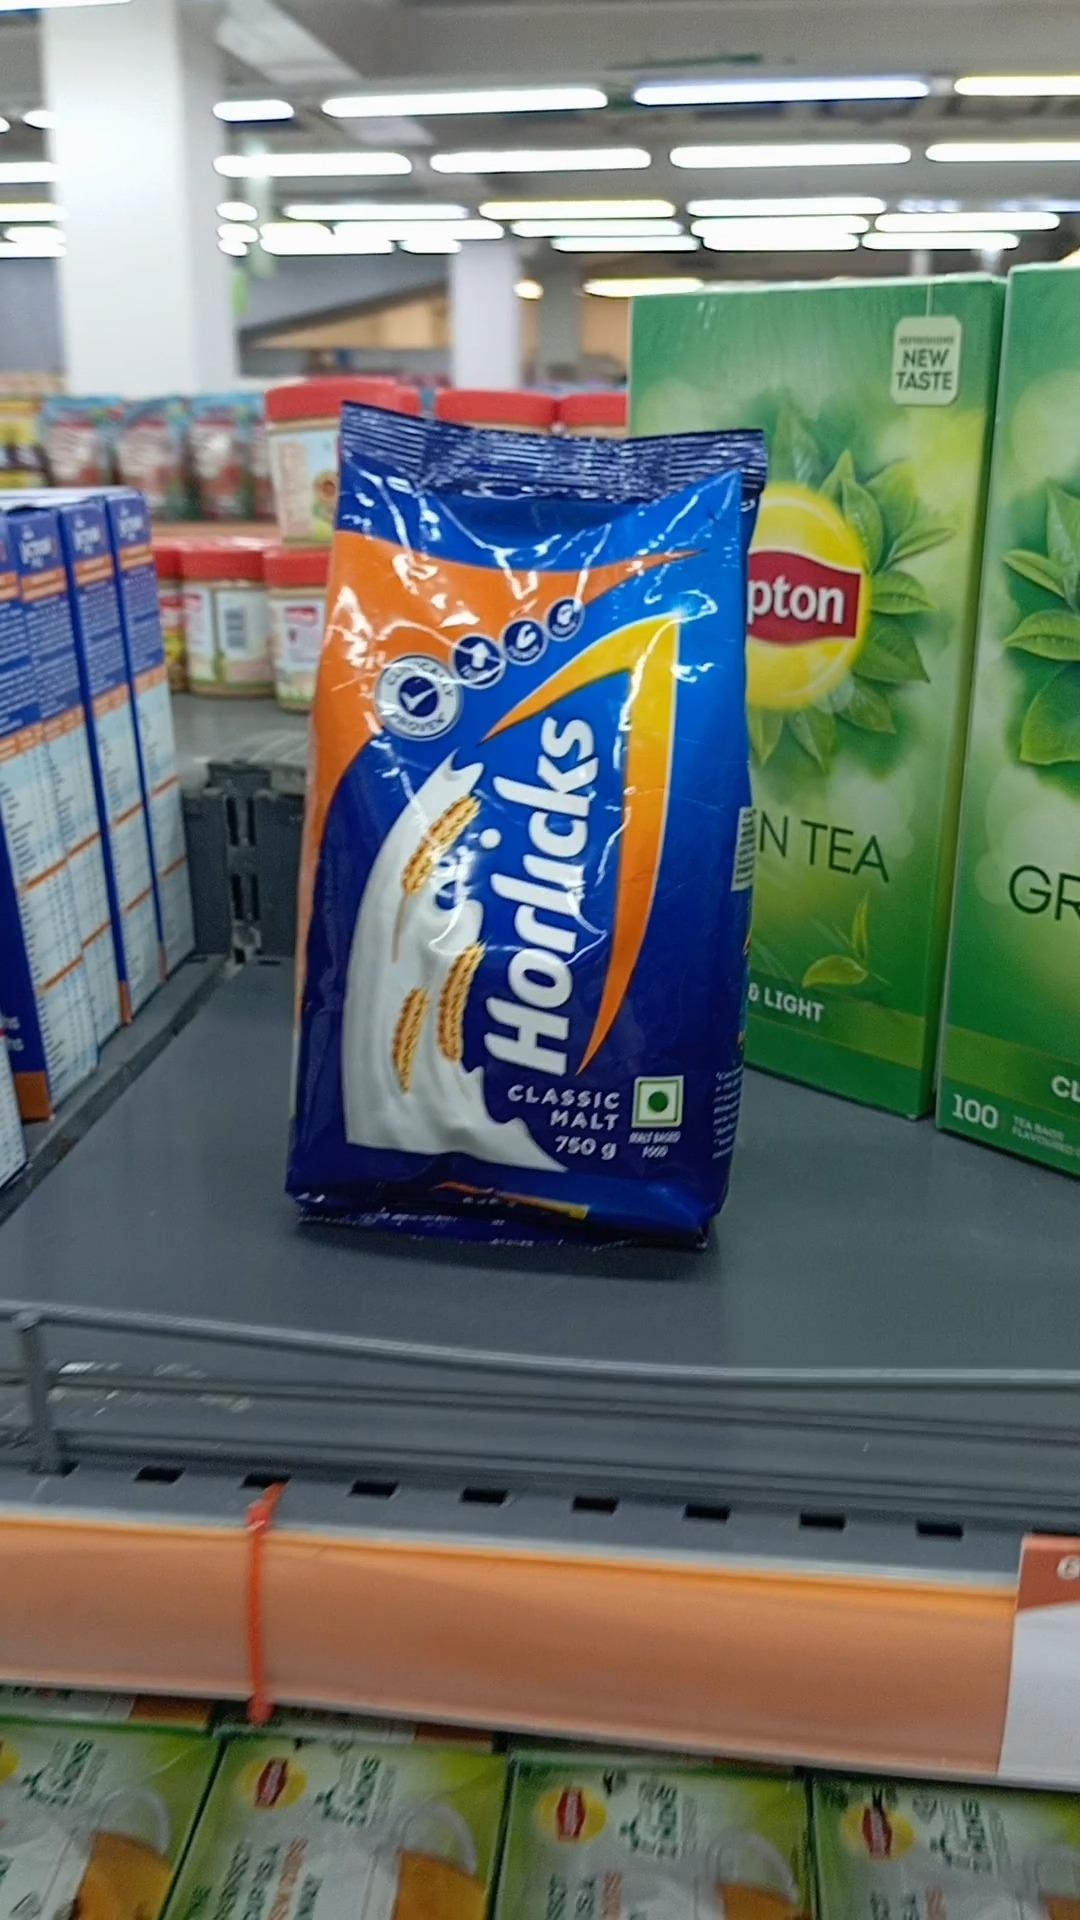HORLICK_CLASSIC_MALT_750_G_POUCH: (311, 396, 727, 1240)
